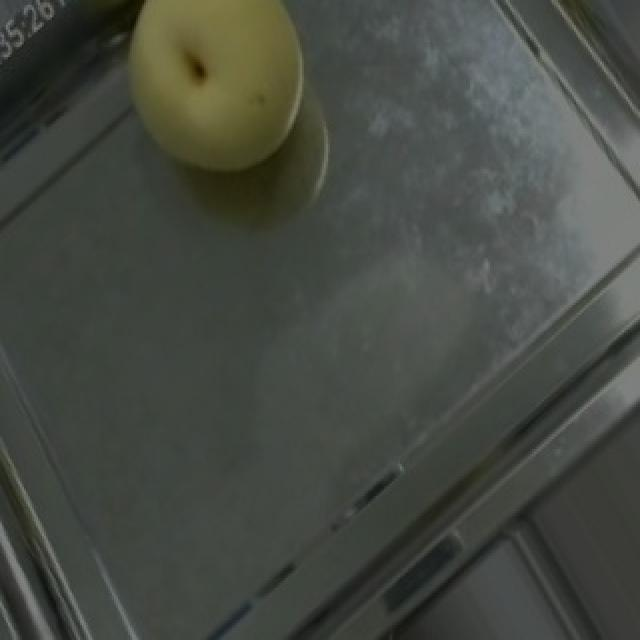Fruit: (84, 0, 338, 211)
